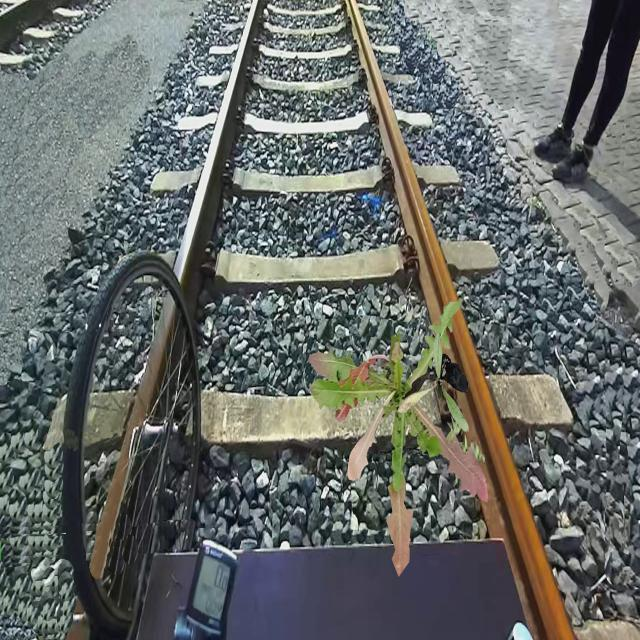Plant: (308, 299, 488, 577), (397, 332, 468, 432), (445, 414, 487, 486)
